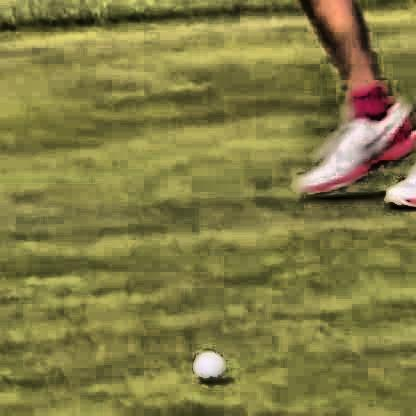golfball: (191, 348, 222, 379)
